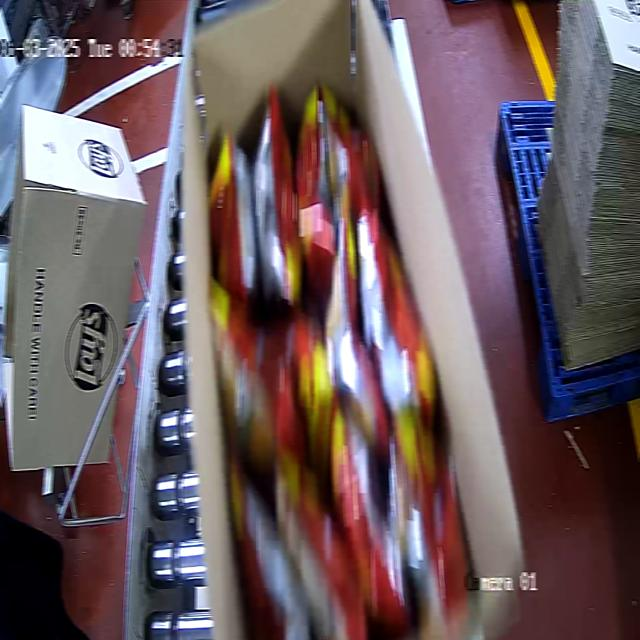MASALA: (202, 80, 474, 638)
